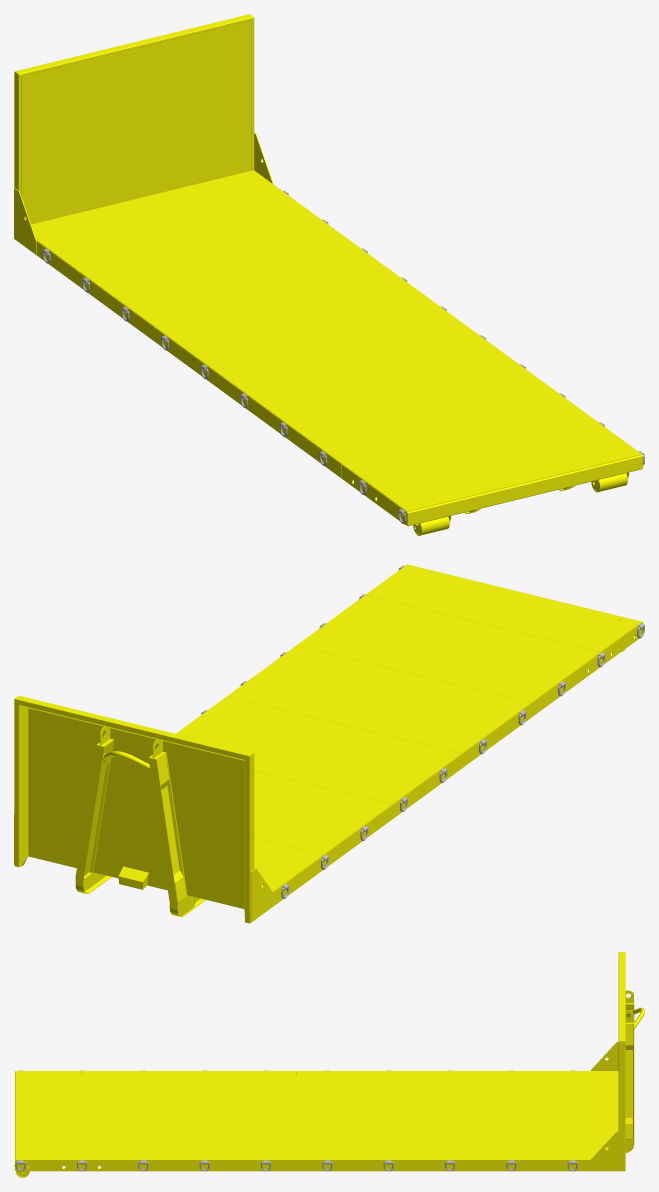
The picture shows the model from 3 angles, top to bottom: view 1: azimuth 30°, elevation 25°; view 2: azimuth 150°, elevation 25°; view 3: azimuth 270°, elevation 25°; orthographic projection. The views are drawn at different scales.
Visible parts, largest first — view 1: Solid1 (×11), Solid2 (×2); view 2: Solid1 (×14), Solid2 (×3); view 3: Solid1 (×11), Solid2 (×2).
Boxes of the visible parts, x1,y1,x2,y2 form: Solid1 (×11): [14, 14, 643, 526]; Solid2 (×2): [19, 241, 407, 525]; Solid1 (×14): [14, 564, 641, 923]; Solid2 (×3): [148, 623, 642, 919]; Solid1 (×11): [16, 952, 634, 1171]; Solid2 (×2): [15, 1160, 618, 1171].
Bounding box in the file's own units: 2.52 × 1.82 × 7.31.
